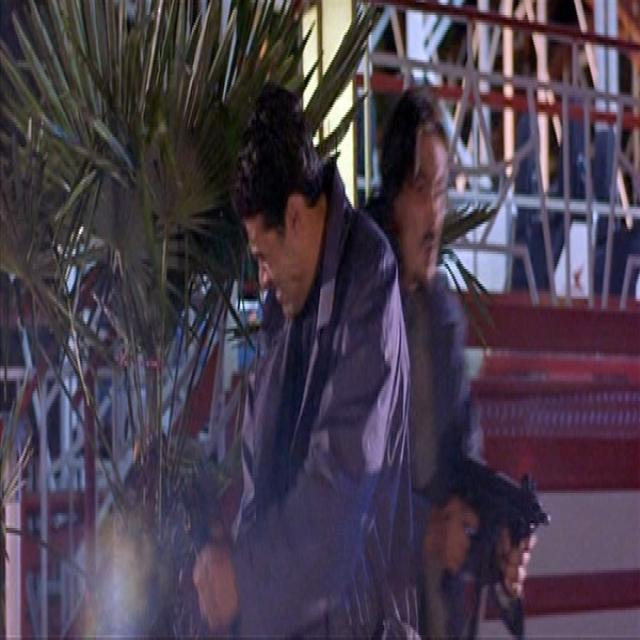rifle: (446, 435, 554, 529)
